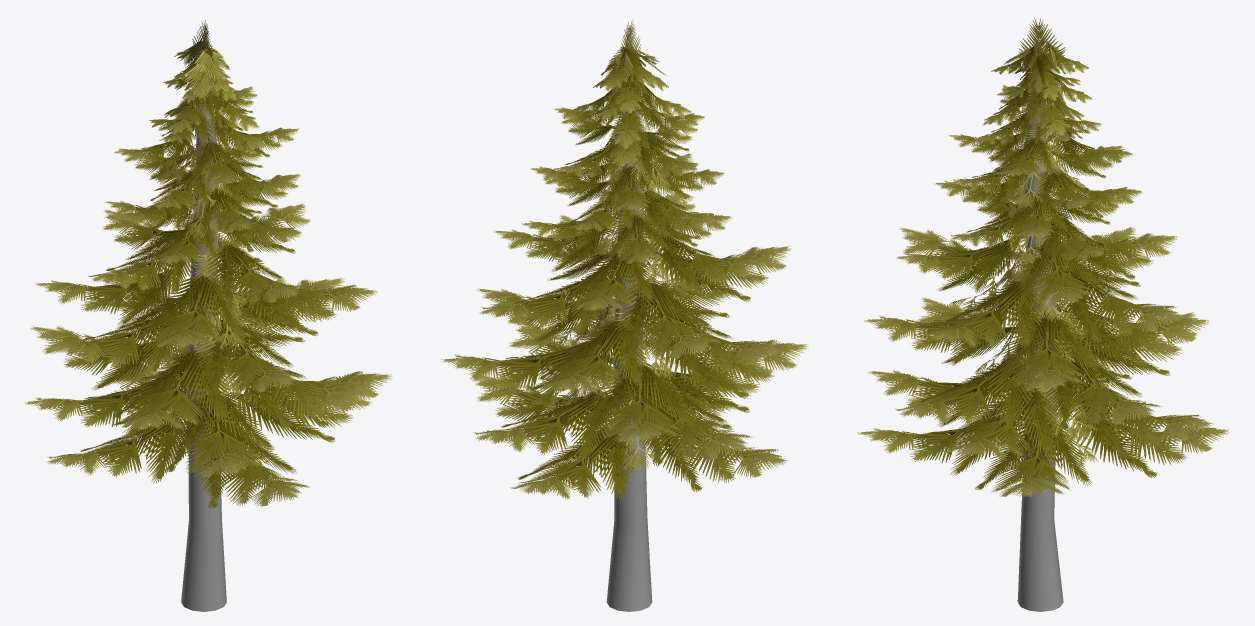
Rendered from Tree_01.fbx.
3 renders of one model, left to right at view 1: azimuth 30°, elevation 25°; view 2: azimuth 150°, elevation 25°; view 3: azimuth 270°, elevation 25°, orthographic.
Visible parts, largest first — view 1: Tree_leaves1, Tree_trunk1; view 2: Tree_leaves1, Tree_trunk1; view 3: Tree_leaves1, Tree_trunk1.
Boxes of the visible parts, x1,y1,x2,y2 form: Tree_leaves1: [24, 20, 392, 508]; Tree_trunk1: [181, 86, 226, 611]; Tree_leaves1: [441, 19, 808, 499]; Tree_trunk1: [606, 78, 652, 611]; Tree_leaves1: [857, 17, 1229, 497]; Tree_trunk1: [1017, 73, 1063, 611].
Size of the model in its own units: 17.14 by 28.28 by 17.14.
